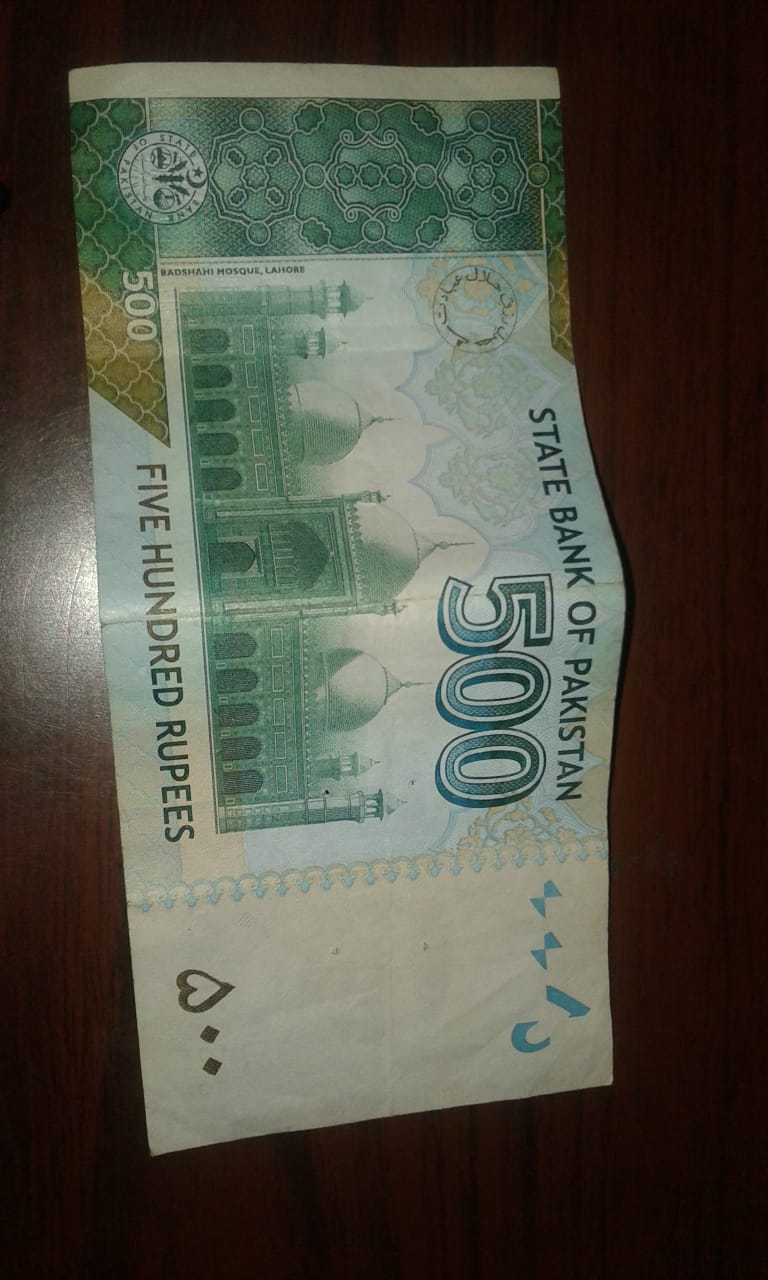500 rupee: (44, 46, 651, 1226)
